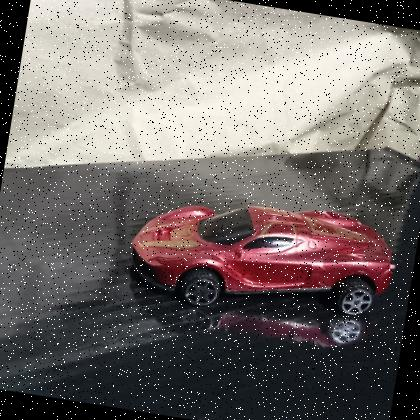Car: (120, 176, 408, 341)
